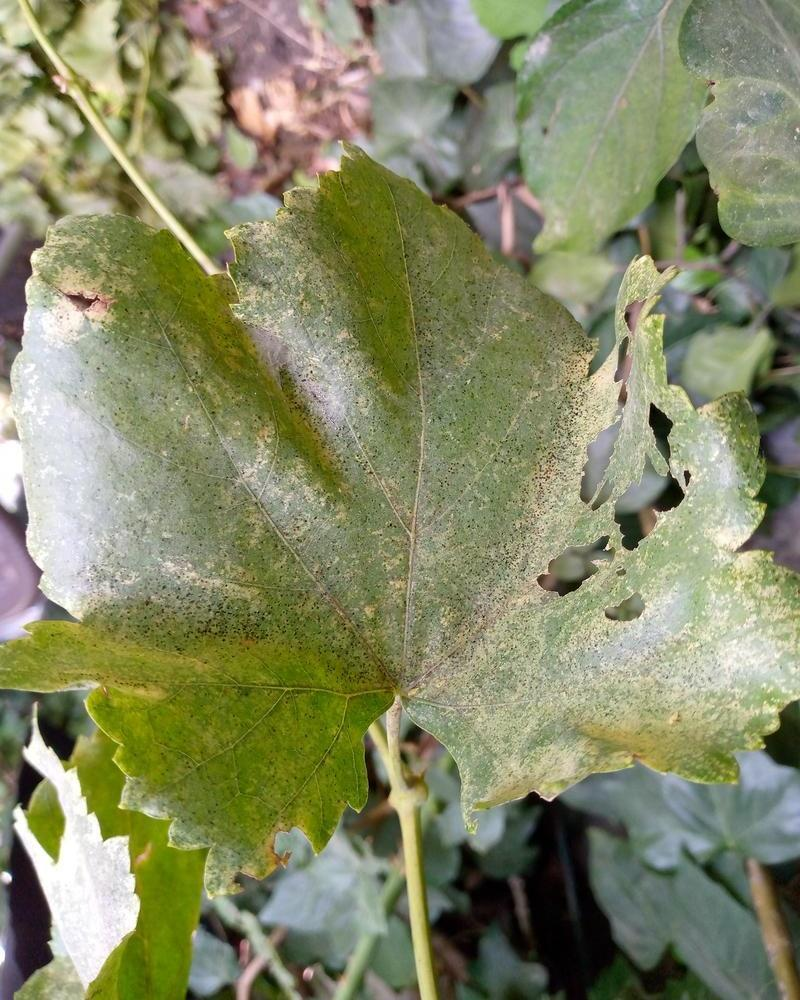Powdery-Mildew: (420, 603, 590, 770), (644, 581, 793, 735), (232, 304, 406, 428), (42, 338, 130, 556), (693, 431, 758, 550), (50, 252, 113, 315)
